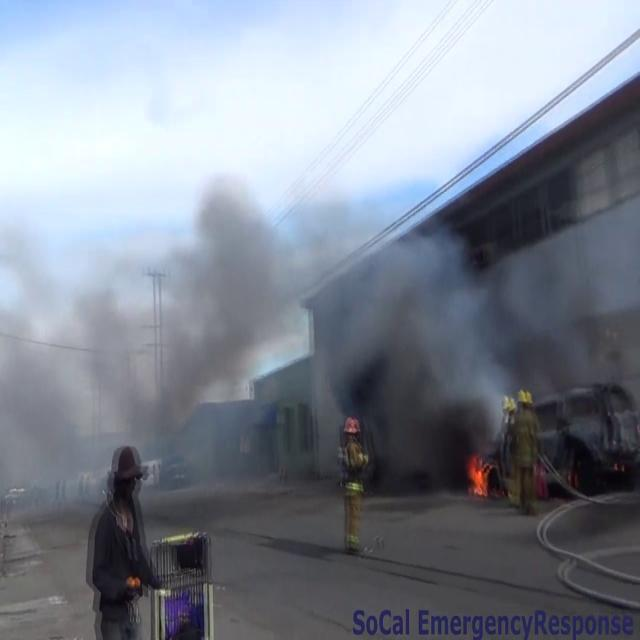Fire: (464, 448, 494, 502)
Smoke: (1, 146, 532, 508)
